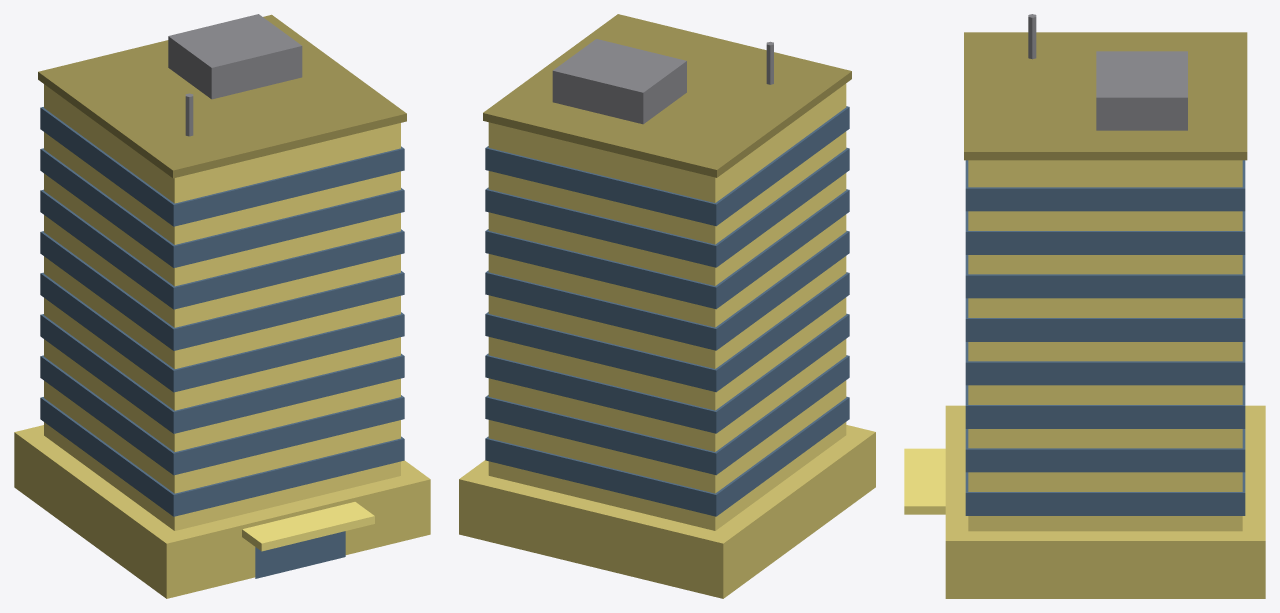
File: office_block.glb
3 views of the same model, side by side, from view 1: azimuth 30°, elevation 25°; view 2: azimuth 150°, elevation 25°; view 3: azimuth 270°, elevation 25° (orthographic). The views are drawn at different scales.
Visible parts, largest first — view 1: office_block; view 2: office_block; view 3: office_block.
Part boxes in pixels (x1,y1,x2,y2): office_block: (14,14,430,598); office_block: (459,14,875,598); office_block: (904,14,1265,598).
Size of the model in its own units: 0.7 by 1.16 by 0.79.
